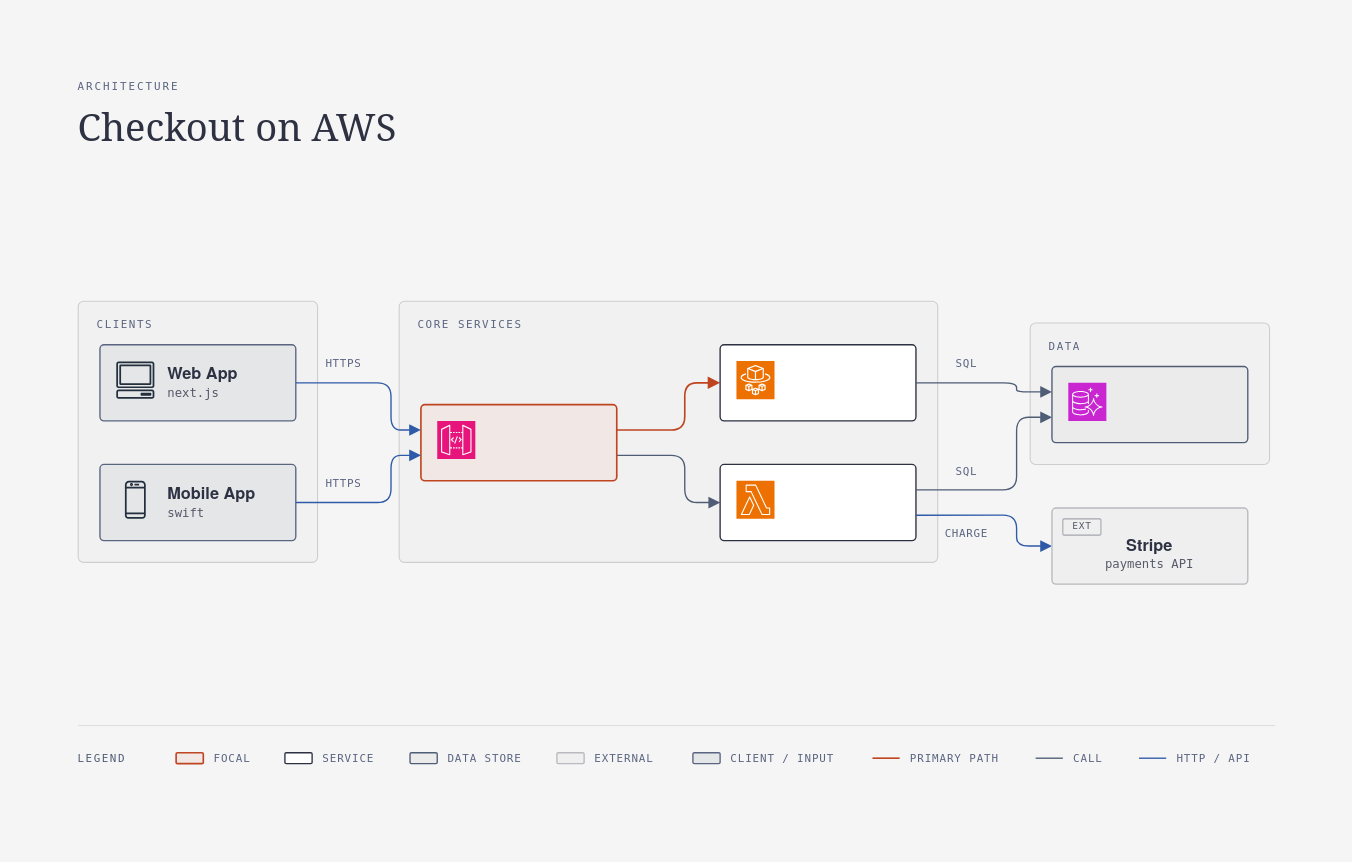
Image size: 1352x862. Some labels were removed from this diagram. Here are the shapes that lost their labels. From the top down, the box of each, then its label:
(719, 343, 916, 421): Orders Fargate
(1051, 365, 1248, 443): Aurora postgres
(419, 403, 617, 481): API Gateway REST · :443
(719, 463, 916, 541): Payments Lambda
